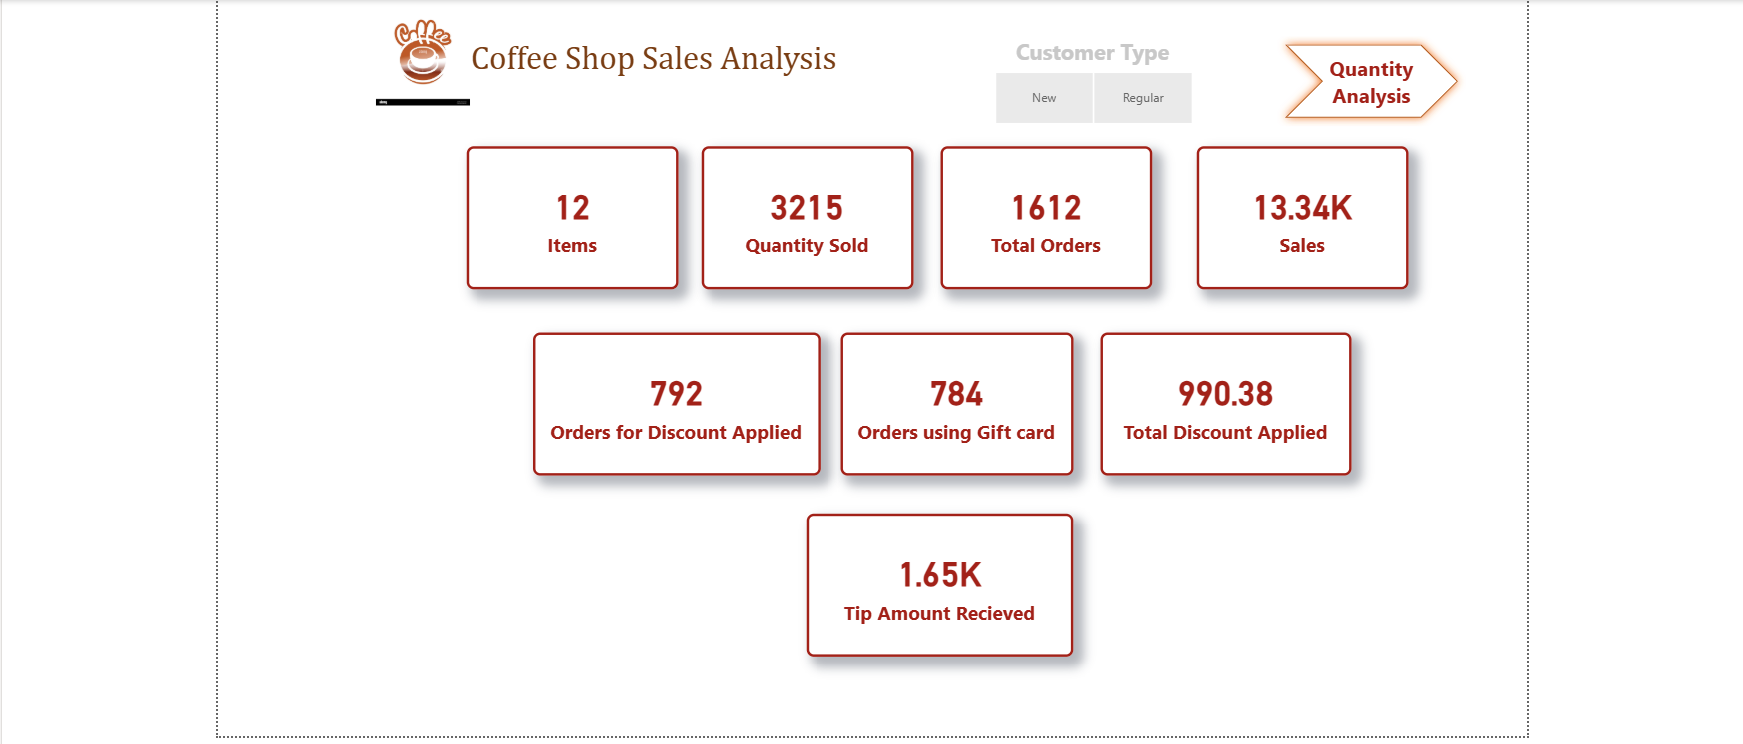

The page's visual inventory and layout, read from the dashboard file:
{"tool":"powerbi","page":{"name":"KPIs","canvas":[1280,720],"ordinal":0},"visuals":[{"type":"card","fields":{"Values":["coffeeshop_transactions.Items"]},"box":[242.9,142.7,207.2,140],"z":0},{"type":"card","fields":{"Values":["coffeeshop_transactions.Quantity Sold"]},"box":[473.4,142.7,207.2,140],"z":1000},{"type":"card","fields":{"Values":["coffeeshop_transactions.Total Orders"]},"box":[706.7,142.7,207.2,140],"z":2000},{"type":"card","fields":{"Values":["coffeeshop_transactions.Sales"]},"box":[957.8,142.7,207.2,140],"z":3000},{"type":"card","fields":{"Values":["coffeeshop_transactions.Orders fo Discount Applied"]},"box":[308.7,325.2,281.3,140],"z":4000},{"type":"card","fields":{"Values":["coffeeshop_transactions.Orders using Gift card"]},"box":[609.3,325.2,227.8,140],"z":5000},{"type":"card","fields":{"Values":["coffeeshop_transactions.Total Discount Applied"]},"box":[863.1,325.2,245.6,140],"z":6000},{"type":"card","fields":{"Values":["coffeeshop_transactions.Tip Amount Recieved"]},"box":[576.3,502.2,260.7,140],"z":7000},{"type":"image","box":[93.3,0,215.4,108.4],"z":8000},{"type":"textbox","box":[212.7,35.7,426.8,72.7],"z":9000},{"type":"shape","box":[1036,35.7,185.2,87.8],"z":10000},{"type":"slicer","title":"Customer Type","fields":{"Values":["coffeeshop_transactions.Customer Type"]},"box":[735.5,35.7,241.5,91.9],"z":11000}]}

Visuals, with their boxes in screenshot pixels (x1, y1, x2, y2):
card - coffeeshop_transactions.Items: bbox(461, 141, 672, 284)
card - coffeeshop_transactions.Quantity Sold: bbox(696, 141, 907, 284)
card - coffeeshop_transactions.Total Orders: bbox(934, 141, 1145, 284)
card - coffeeshop_transactions.Sales: bbox(1190, 141, 1401, 284)
card - coffeeshop_transactions.Orders fo Discount Applied: bbox(528, 327, 815, 470)
card - coffeeshop_transactions.Orders using Gift card: bbox(835, 327, 1067, 470)
card - coffeeshop_transactions.Total Discount Applied: bbox(1093, 327, 1344, 470)
card - coffeeshop_transactions.Tip Amount Recieved: bbox(801, 508, 1067, 650)
image: bbox(308, 0, 528, 106)
textbox: bbox(430, 32, 865, 106)
shape: bbox(1270, 32, 1458, 121)
"Customer Type" slicer: bbox(963, 32, 1209, 126)
